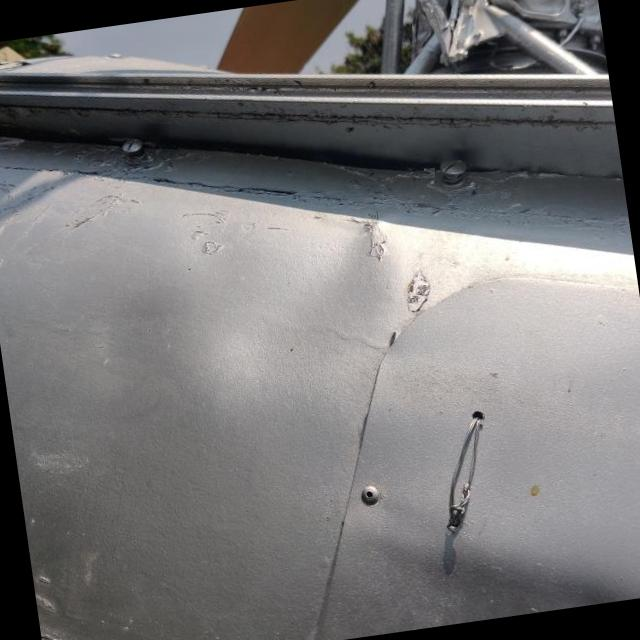Dent: (207, 204, 427, 399)
